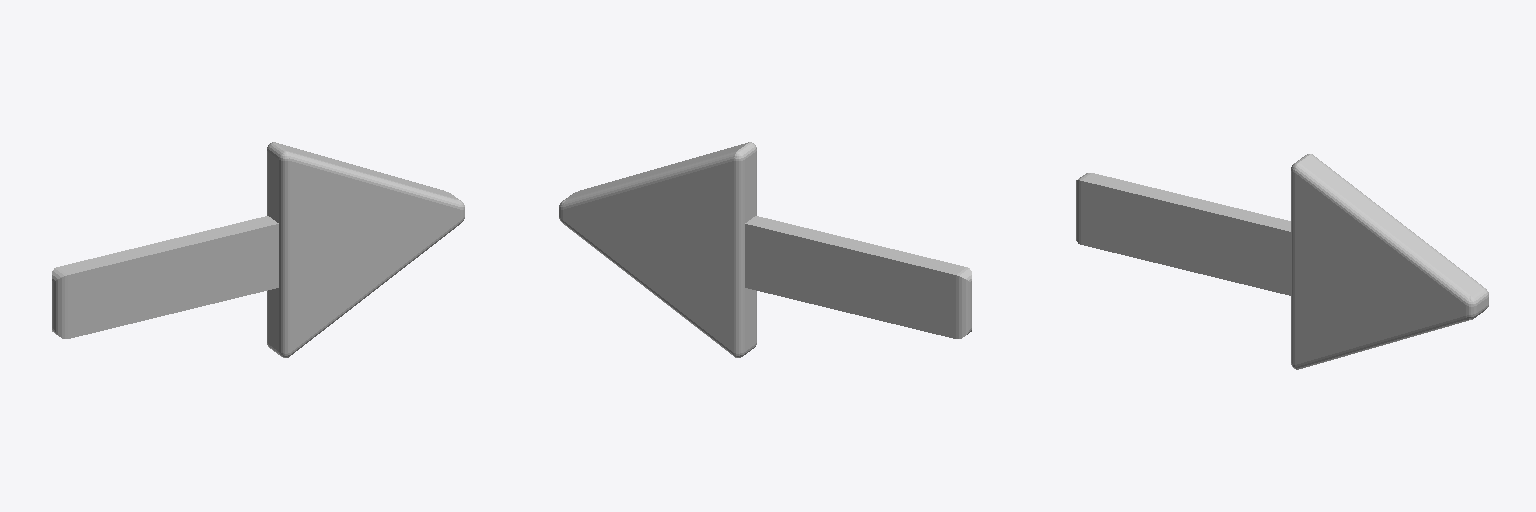
The model's file is arrow.obj.
3 renders of one model, left to right at view 1: azimuth 30°, elevation 25°; view 2: azimuth 150°, elevation 25°; view 3: azimuth 330°, elevation 25°, orthographic.
Parts seen in each view (by area): view 1: ___; view 2: ___; view 3: ___.
Part boxes in pixels (x1,y1,x2,y2): ___: (52, 142, 464, 357); ___: (559, 142, 971, 357); ___: (1076, 154, 1488, 369).
Size of the model in its own units: 96.07 by 46.85 by 7.78.